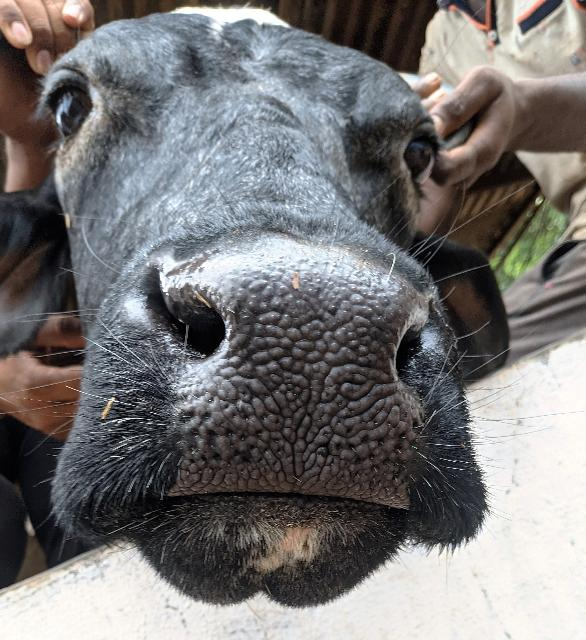Muzzle: (204, 262, 406, 482)
